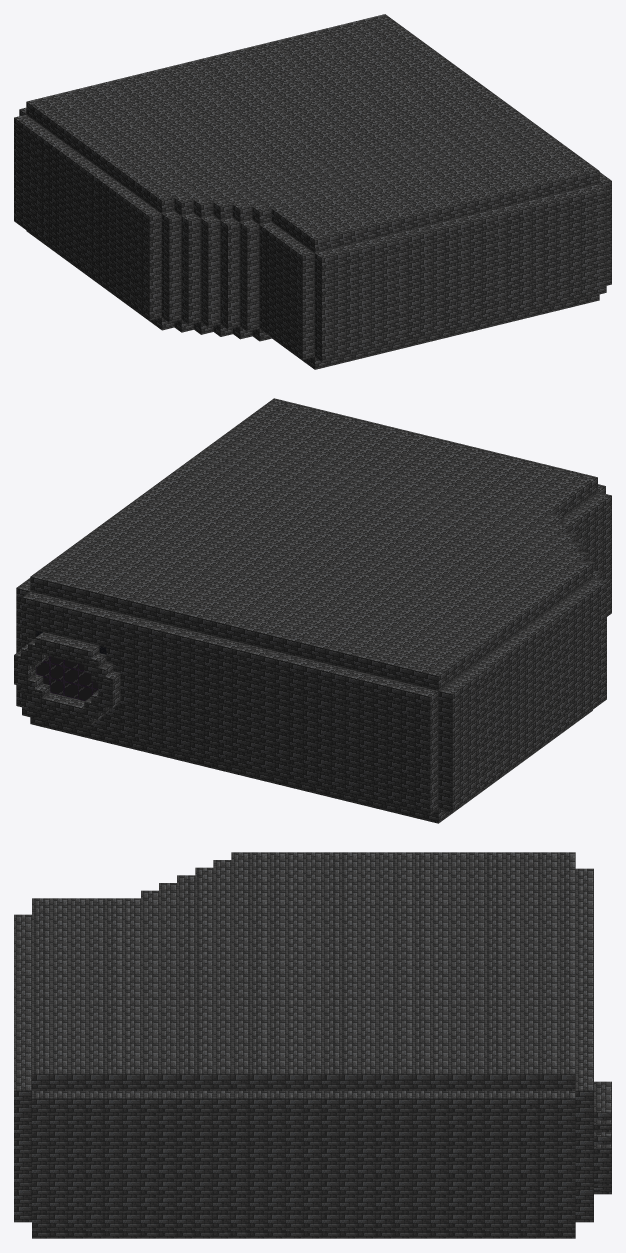
Rendered from bunker.gltf.
3 renders of one model, top to bottom at view 1: azimuth 30°, elevation 25°; view 2: azimuth 150°, elevation 25°; view 3: azimuth 270°, elevation 25°, orthographic. The views are drawn at different scales.
Visible parts, largest first — view 1: ship; view 2: ship; view 3: ship.
Part boxes in pixels (x1=…): ship: x1=14, y1=14, x2=611, y2=369; ship: x1=14, y1=398, x2=611, y2=823; ship: x1=14, y1=852, x2=611, y2=1238.
Size of the model in its own units: 31 by 10 by 33.
Materials: 68 (67 with a texture image).
